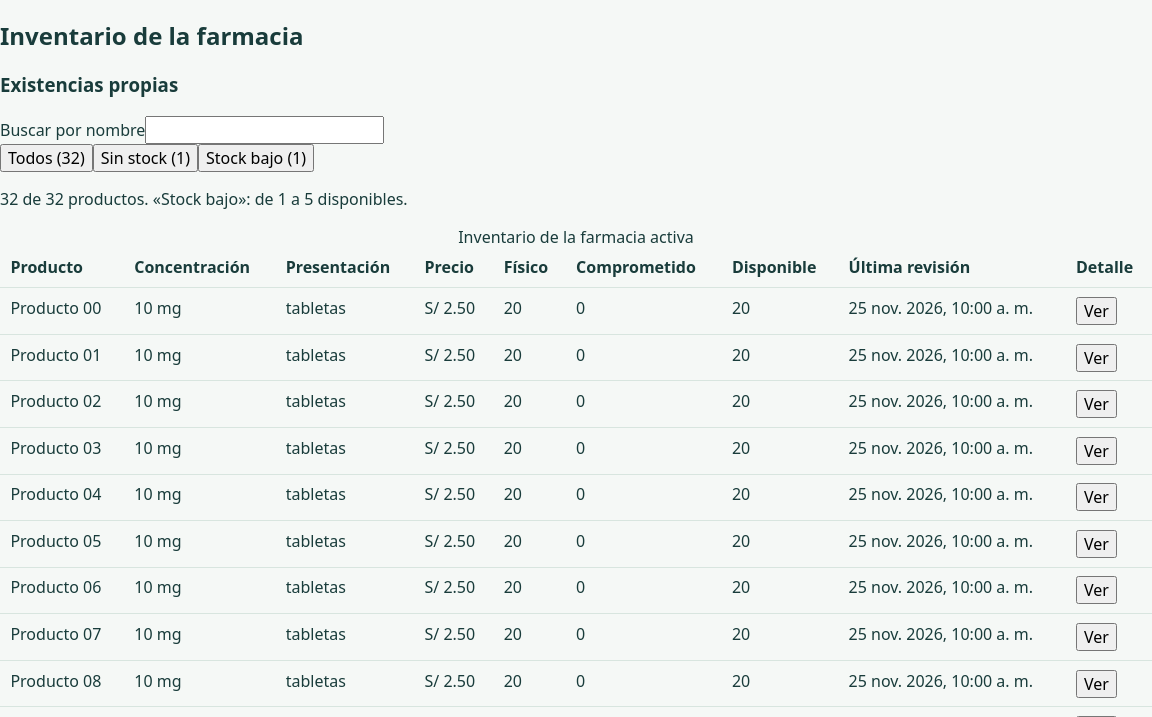
it: Inventario (solo lectura) › muestra nombres legibles, busca, filtra, pagina, abre el detalle y deja la revisión en un botón secundario
Check: the text "32 de 32 productos." is shown, box [0,188,408,210]
Check: the text "Producto 00" is shown, box [0,288,124,334]
Step 1. Click the button "Stock bajo (1)" → (256, 158), box [198,144,314,172]
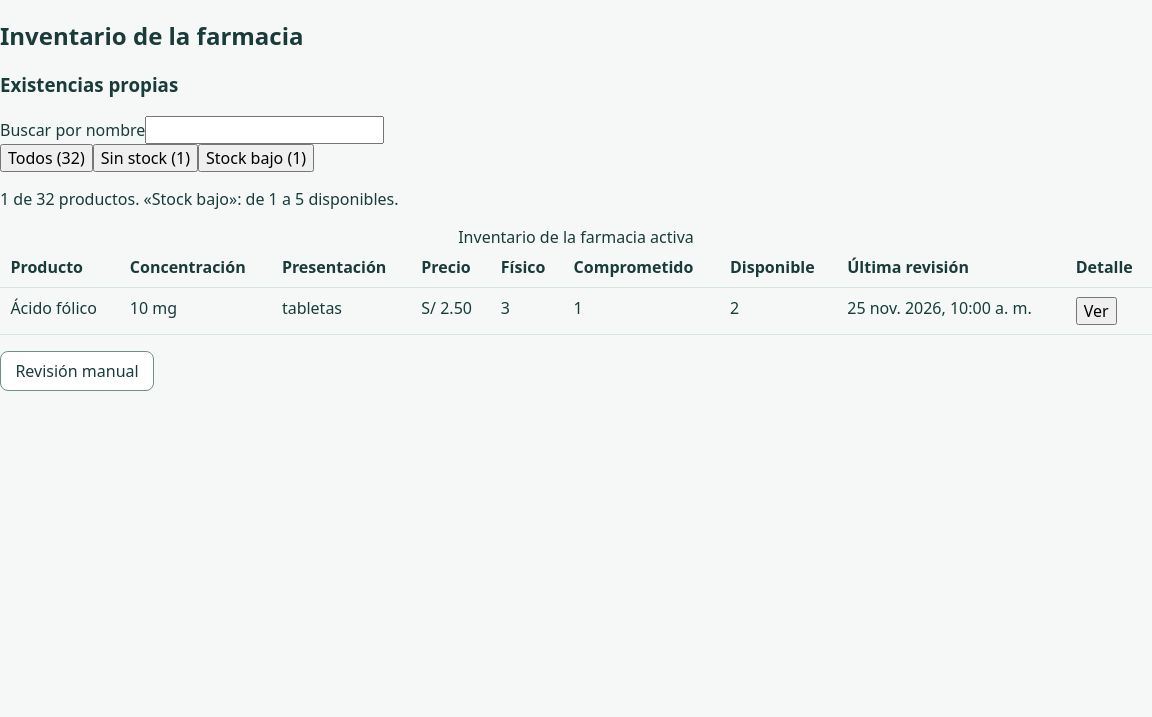
Check: the text "Ácido fólico" is shown, box [0,288,119,334]
Step 2. Click the button "Sin stock (1)" → (145, 158), box [93,144,198,172]
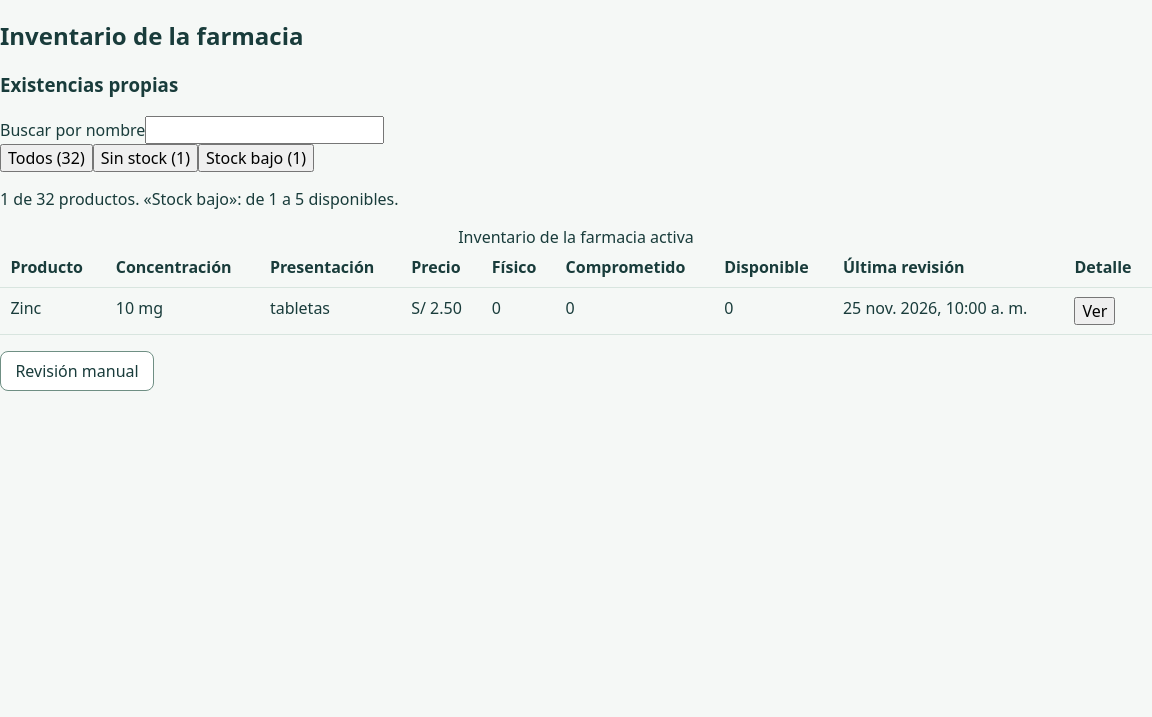
Check: the text "Zinc" is shown, box [0,288,105,334]
Step 3. Click the button "Todos (32)" → (46, 158), box [0,144,93,172]
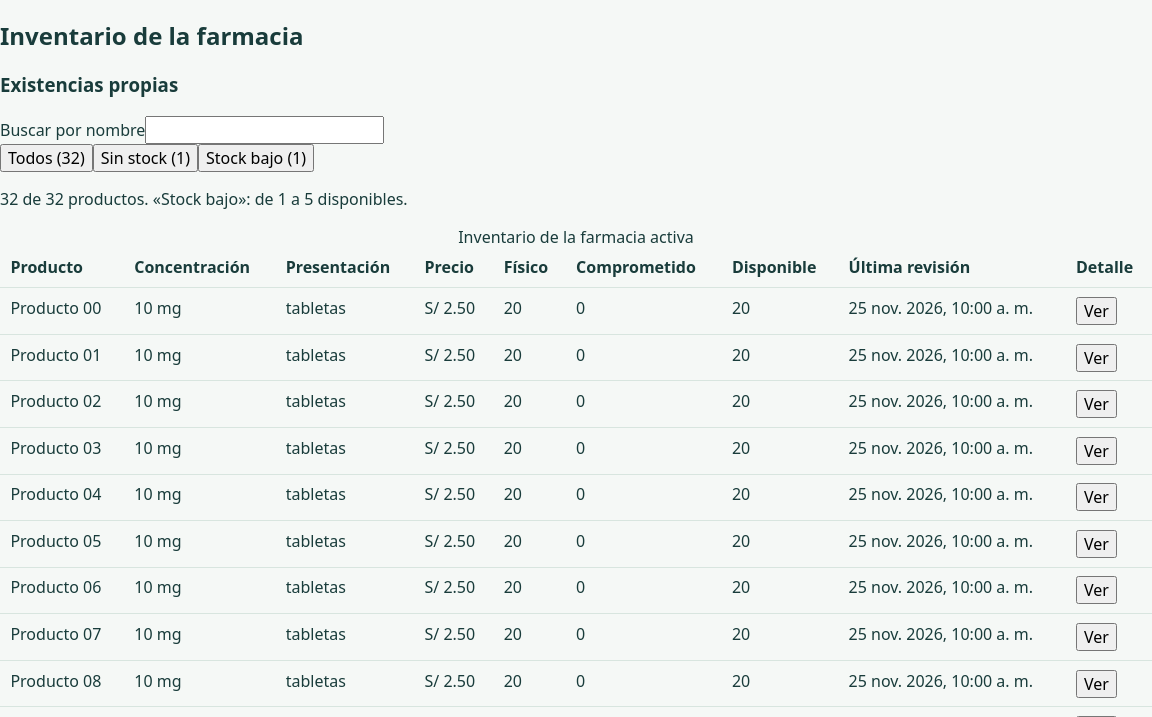
Step 4. Type "acido" into the search field labelled "Buscar por nombre" → (265, 130), box [145,116,384,144]
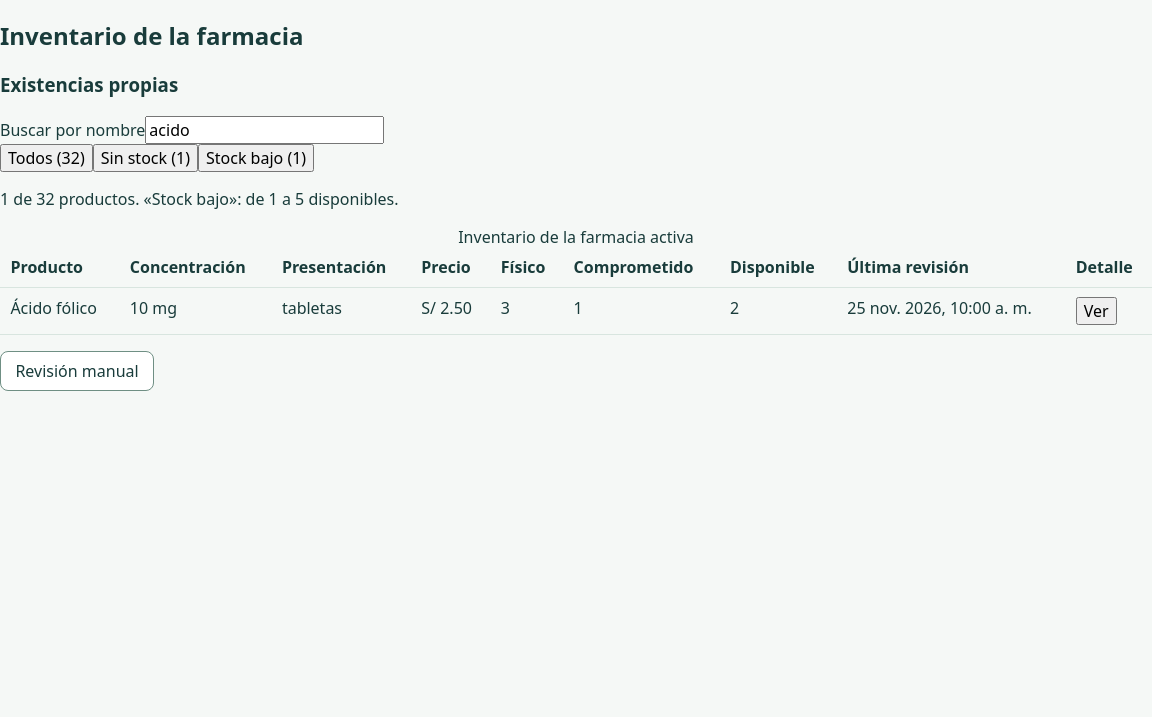
Step 5. Click the button with aria-label "Ver Ácido fólico 10 mg" → (1096, 311), box [1076,297,1116,325]
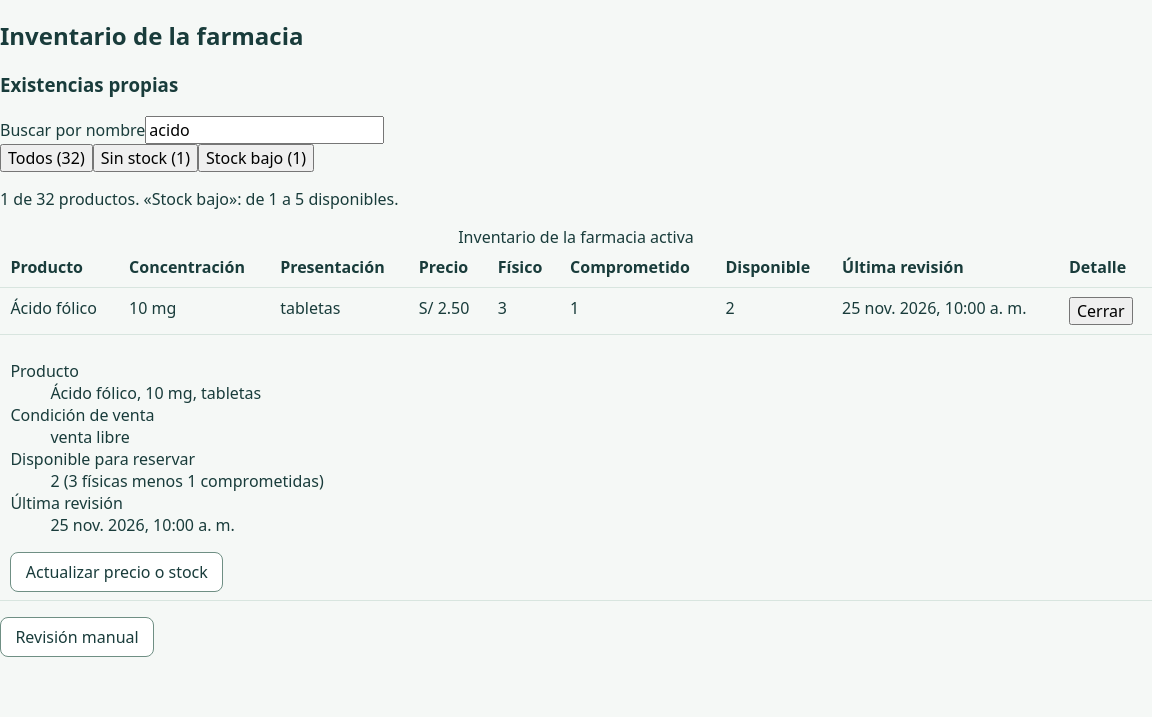
Check: the text "2 (3 físicas menos 1 comprometidas)" is shown, box [50,470,324,492]
Step 6. Click the button "Actualizar precio o stock" → (117, 572), box [10,552,223,592]
(page scrolled)
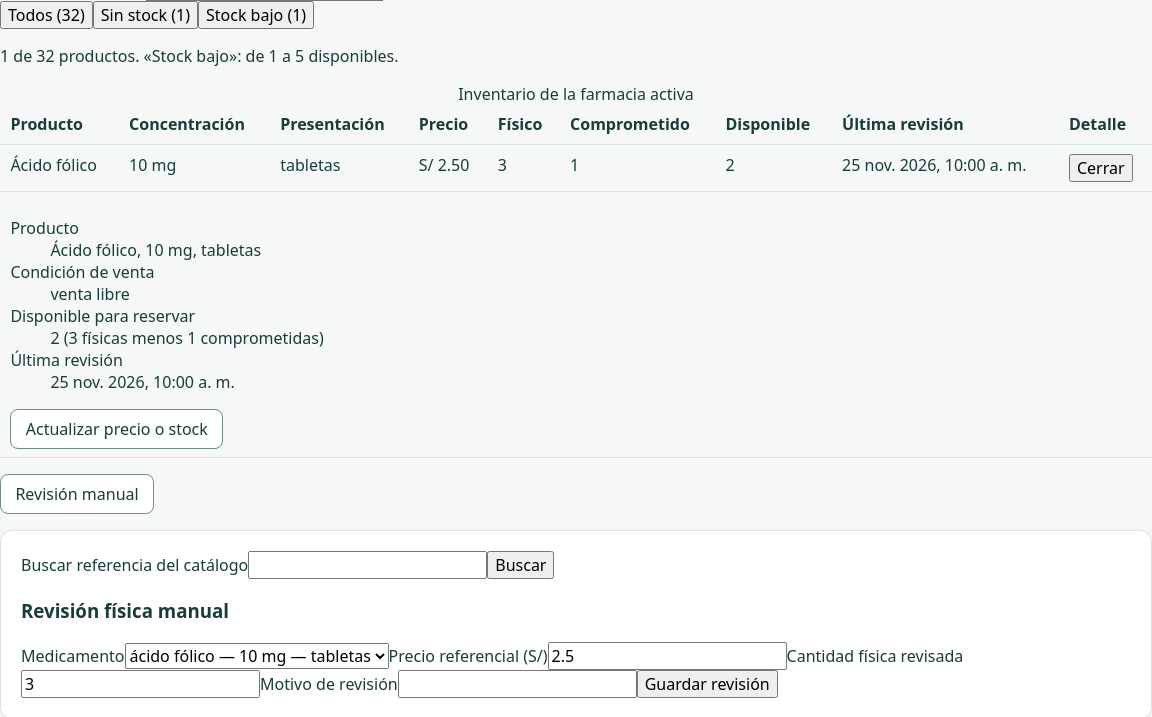
Check: the dropdown labelled "Medicamento" shows "ácido fólico — 10 mg — tabletas", box [124,643,388,669]
Check: the number field labelled "Cantidad física revisada" holds "3", box [21,670,260,698]
